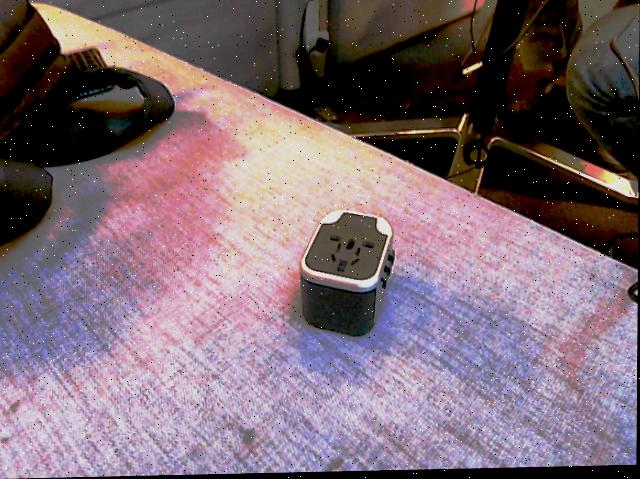adapter: (299, 209, 396, 339)
